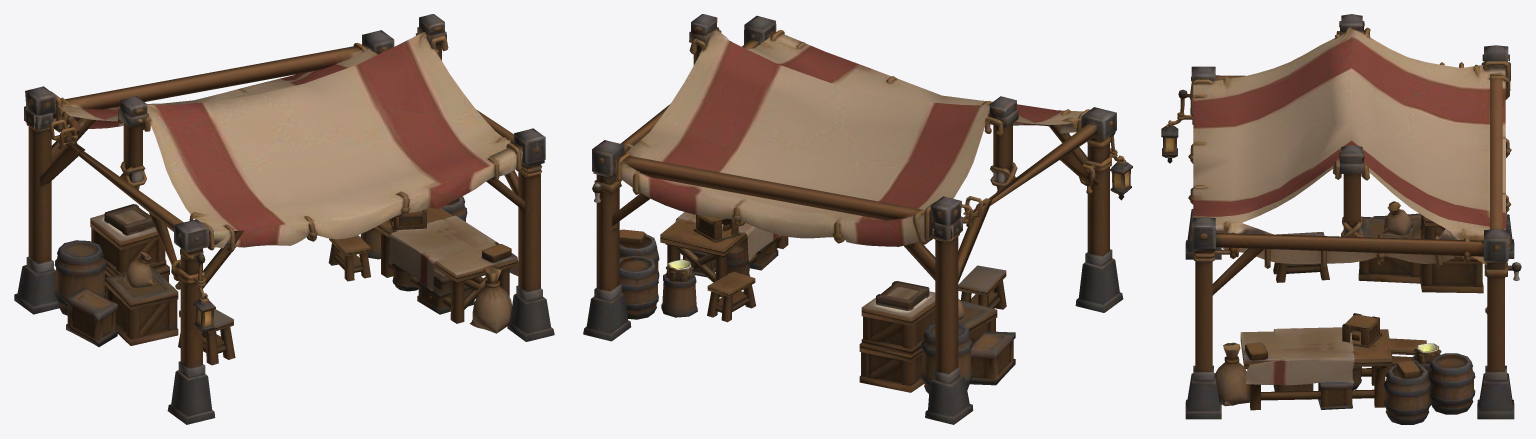
File: k-stall.glb
3 views of the same model, side by side, from view 1: azimuth 30°, elevation 25°; view 2: azimuth 150°, elevation 25°; view 3: azimuth 270°, elevation 25° (orthographic). The views are drawn at different scales.
Parts seen in each view (by area): view 1: MedievalMarketStall(Clone); view 2: MedievalMarketStall(Clone); view 3: MedievalMarketStall(Clone).
Part boxes in pixels (x1,y1,x2,y2): MedievalMarketStall(Clone): (14,14,554,424); MedievalMarketStall(Clone): (583,14,1132,424); MedievalMarketStall(Clone): (1161,14,1521,424).
Size of the model in its own units: 0.9995 by 0.6528 by 0.8218.
1 material, 1 textured.
